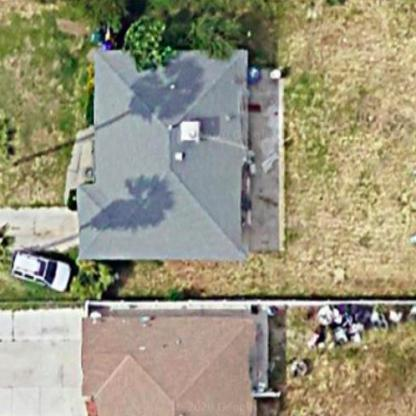car: (10, 243, 72, 297)
